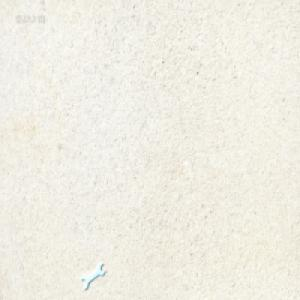Wrench: (84, 262, 108, 290)
